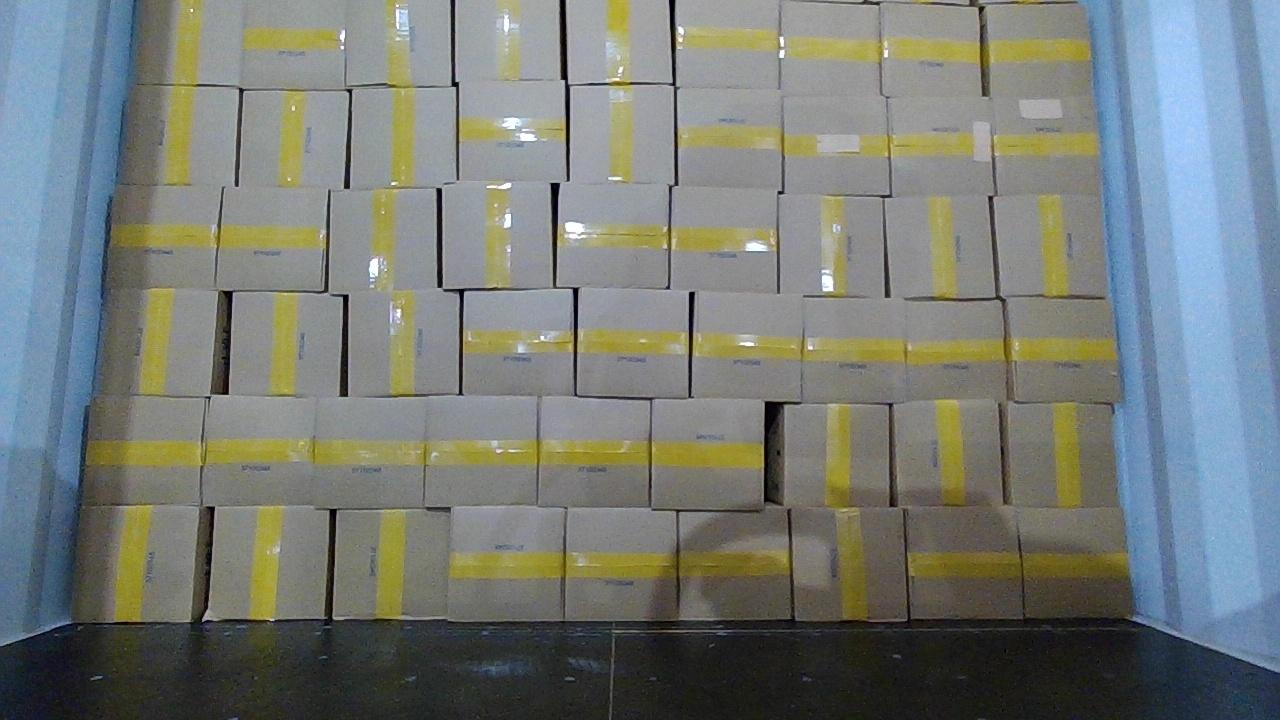carton: (72, 505, 210, 621), (204, 506, 330, 619), (99, 290, 227, 397), (84, 397, 206, 506), (790, 509, 908, 621), (448, 507, 564, 619), (905, 507, 1022, 618), (332, 509, 449, 619), (650, 398, 763, 510), (767, 405, 891, 507), (1017, 508, 1131, 617), (680, 507, 790, 619), (201, 396, 314, 505), (576, 288, 690, 396), (1005, 297, 1121, 403), (566, 508, 676, 619), (425, 397, 537, 506), (313, 398, 426, 506), (1002, 402, 1118, 507), (993, 193, 1108, 298), (539, 397, 648, 507), (442, 182, 554, 288), (691, 291, 800, 399), (348, 289, 459, 395), (107, 186, 222, 288), (463, 290, 575, 394), (120, 85, 237, 184), (893, 400, 1003, 505), (885, 195, 996, 299), (327, 190, 439, 293), (230, 292, 343, 394), (670, 185, 776, 293), (557, 182, 667, 286), (216, 188, 326, 291), (677, 88, 782, 193), (459, 81, 567, 182), (803, 298, 906, 403), (778, 195, 885, 296), (350, 88, 457, 188), (240, 90, 348, 189), (889, 96, 995, 196), (570, 85, 678, 183), (992, 96, 1099, 194), (783, 97, 890, 194), (985, 5, 1091, 98), (907, 301, 1006, 399), (779, 0, 881, 95), (675, 0, 780, 89), (135, 0, 242, 87), (880, 4, 981, 95), (345, 0, 451, 86), (565, 0, 672, 85), (242, 0, 344, 89), (454, 0, 562, 82)
